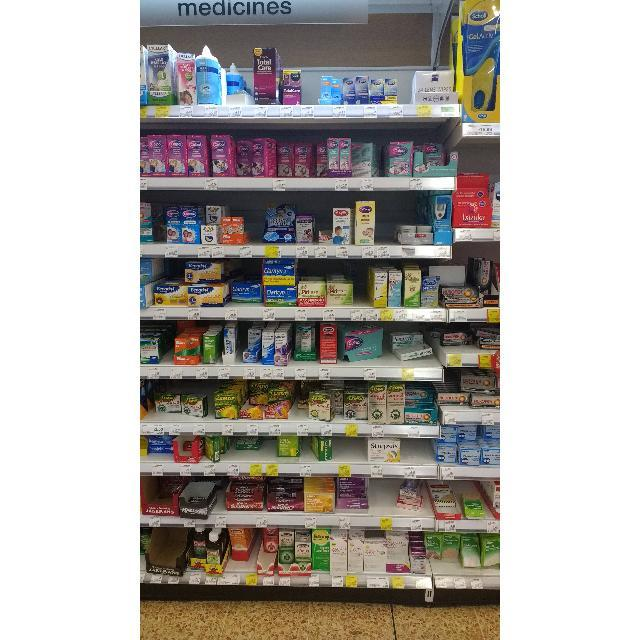empty: (302, 29, 318, 105), (398, 28, 412, 104), (369, 478, 396, 516), (376, 190, 394, 246), (333, 437, 365, 463), (401, 438, 429, 464), (353, 259, 365, 307), (252, 190, 262, 244), (164, 320, 173, 366), (263, 436, 277, 462), (302, 436, 310, 462)
front: (357, 361, 443, 367), (426, 560, 460, 574), (227, 450, 263, 462), (228, 561, 256, 571), (148, 413, 182, 421), (446, 346, 476, 354), (396, 511, 434, 517), (464, 568, 500, 574), (149, 454, 173, 462), (294, 410, 308, 422), (229, 303, 263, 307), (440, 406, 470, 410), (290, 362, 318, 366), (278, 458, 302, 462), (140, 554, 146, 570), (182, 418, 214, 420), (140, 456, 148, 462)
